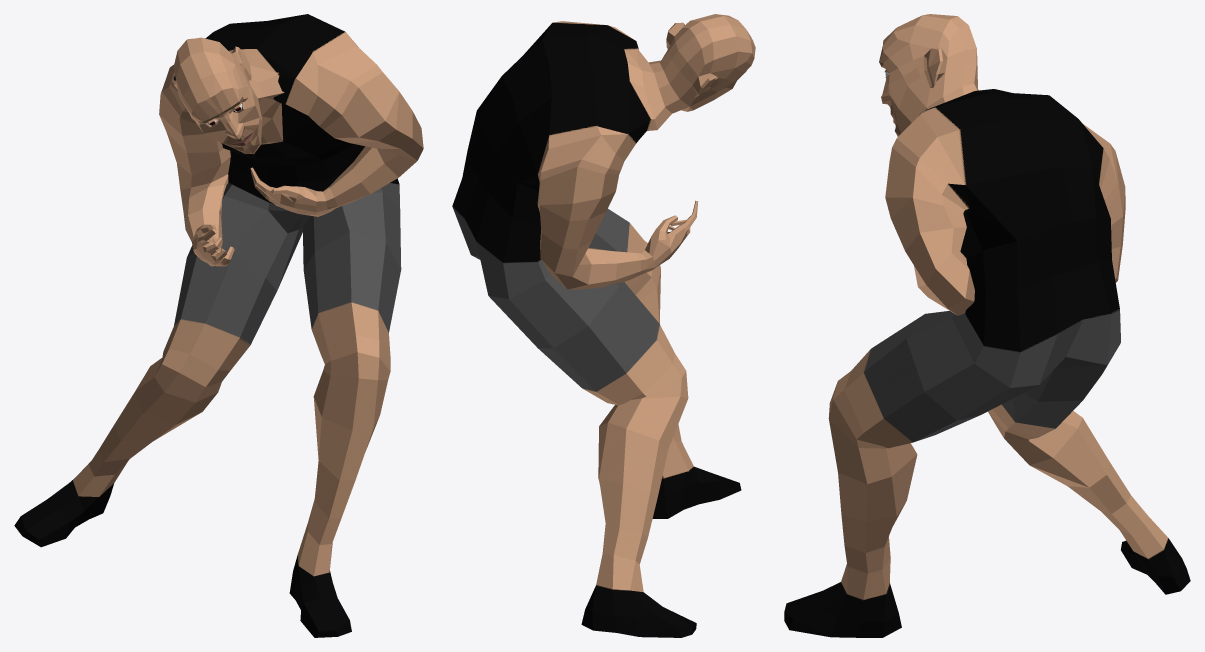
The model's file is PlayerDead(27).obj.
3 views of the same model, side by side, from view 1: azimuth 30°, elevation 25°; view 2: azimuth 150°, elevation 25°; view 3: azimuth 270°, elevation 25° (orthographic). The views are drawn at different scales.
Visible parts, largest first — view 1: Plane002; view 2: Plane002; view 3: Plane002.
Boxes of the visible parts, x1,y1,x2,y2 form: Plane002: (14, 14, 423, 637); Plane002: (452, 14, 755, 637); Plane002: (784, 14, 1190, 637).
Size of the model in its own units: 764 by 1342 by 857.
